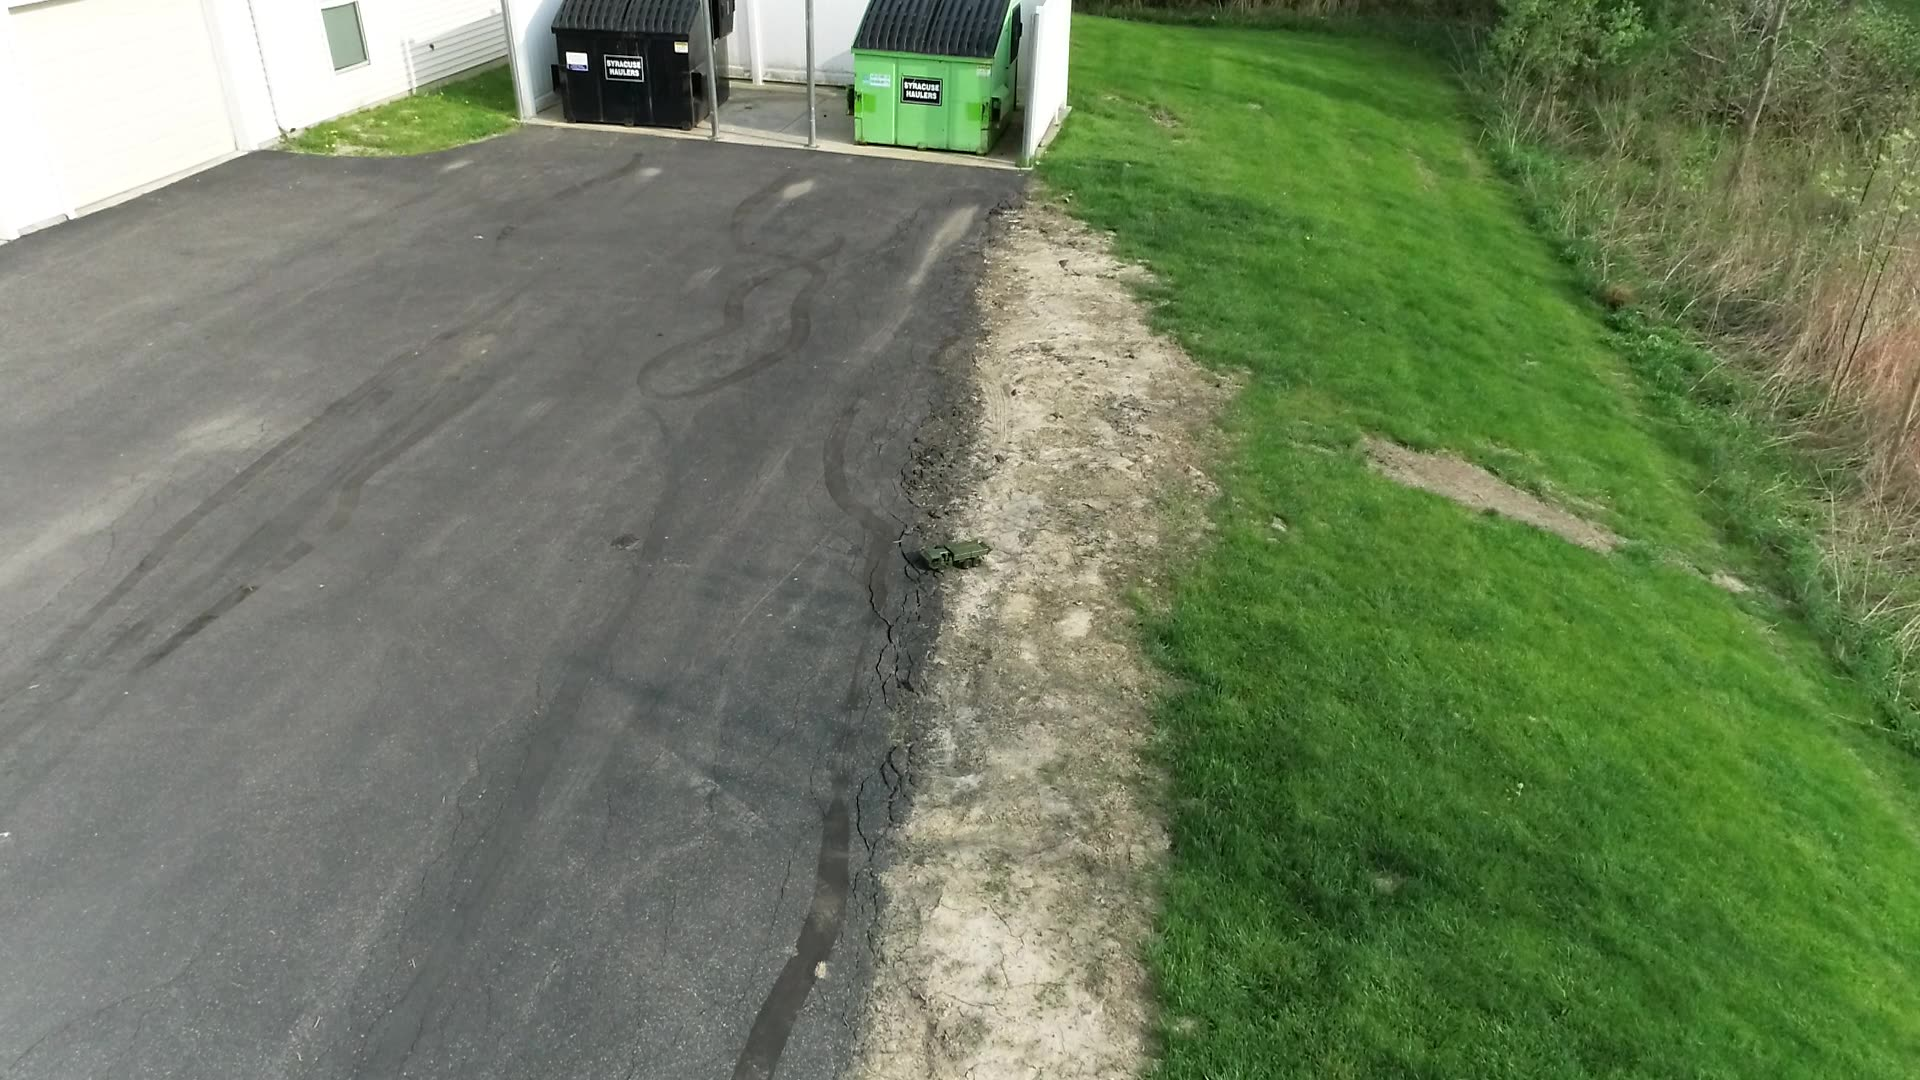transporter9: (915, 533, 996, 571)
